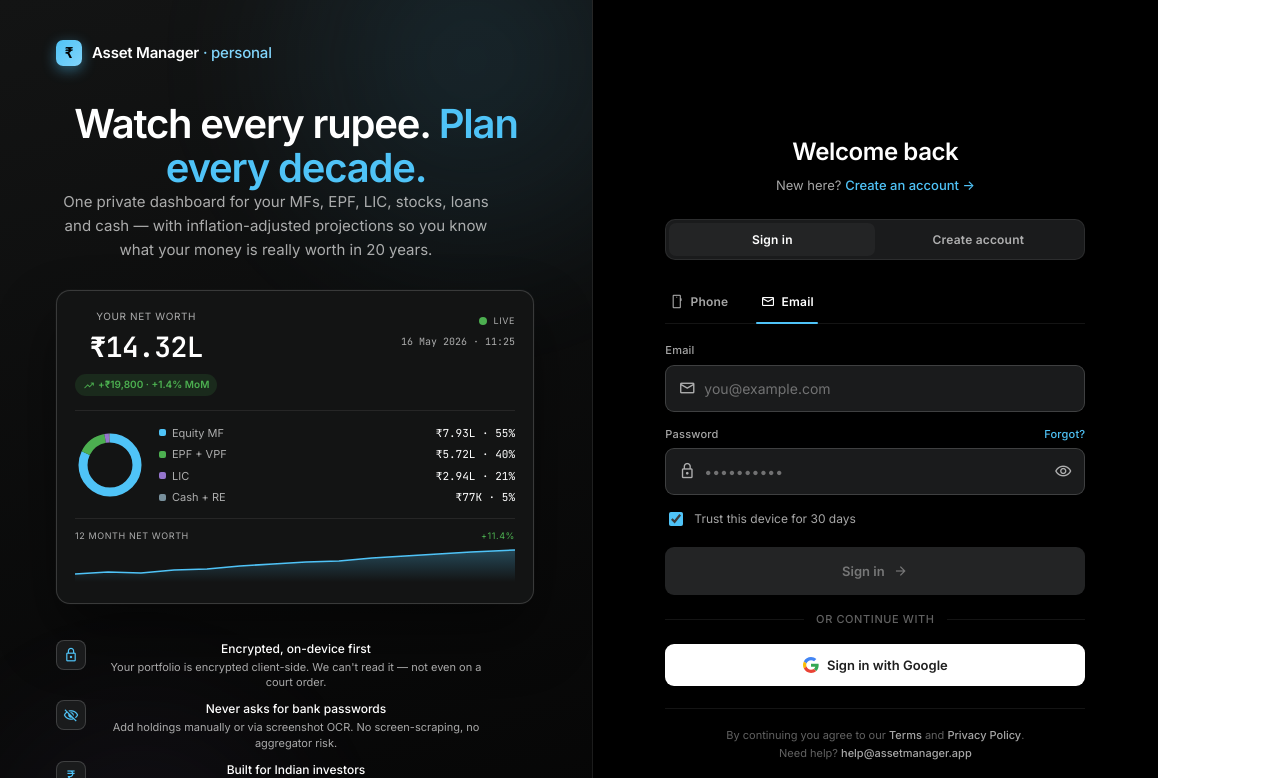
Test: Login Component › Mode switching › clicking Create account tab shows register heading
Click the tab "Create account": (978, 240) [875,223,1081,256]
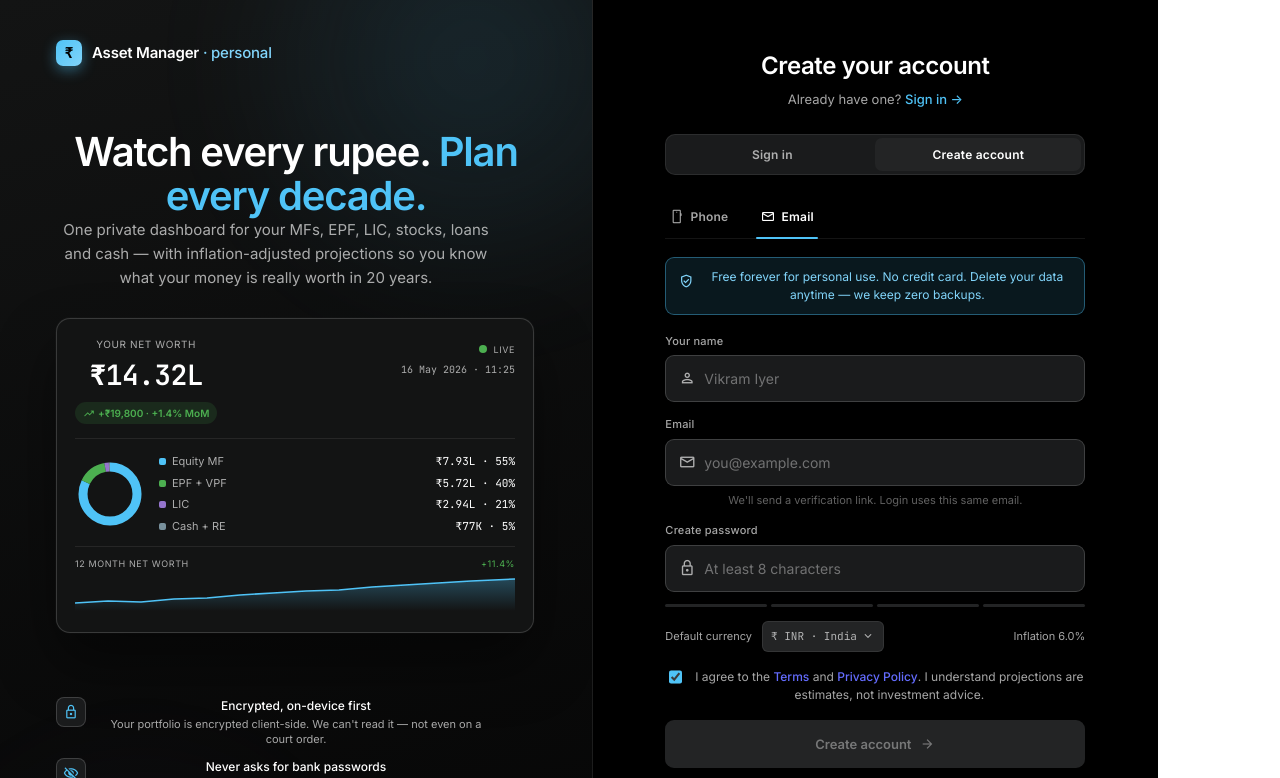
Expected: the heading "Create your account" is shown, [761,51,990,80]
